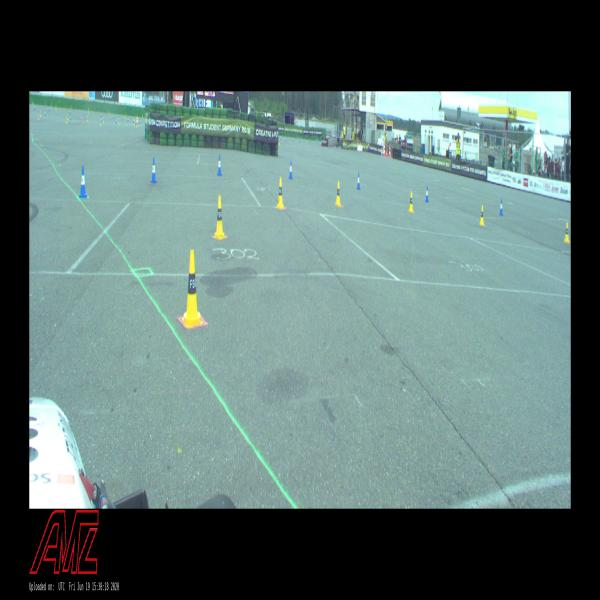blue_cone: (79, 166, 86, 198), (151, 158, 156, 182), (217, 154, 222, 176), (425, 186, 429, 202), (499, 200, 503, 215), (289, 160, 292, 178), (357, 174, 360, 189), (48, 106, 50, 112), (44, 111, 46, 115), (70, 116, 72, 120), (101, 113, 102, 118), (116, 118, 117, 123), (34, 105, 35, 110), (280, 136, 281, 140), (285, 138, 286, 142), (293, 137, 294, 141), (316, 139, 317, 143), (128, 117, 128, 122), (122, 115, 122, 120), (140, 120, 140, 124), (300, 139, 300, 143), (310, 139, 310, 142), (318, 139, 318, 143), (114, 114, 114, 118)
large_orange_cone: (389, 145, 391, 157), (381, 147, 383, 156), (386, 150, 388, 157), (384, 144, 385, 156), (138, 117, 138, 123), (137, 117, 137, 123)
orange_cone: (38, 117, 40, 122), (368, 144, 369, 148), (82, 116, 82, 121)
yellow_cone: (182, 251, 203, 326), (214, 196, 226, 238), (277, 177, 284, 208), (564, 222, 570, 242), (336, 182, 340, 206), (409, 192, 413, 212), (480, 206, 484, 225), (100, 120, 102, 126), (278, 139, 280, 145), (118, 119, 120, 124), (66, 118, 67, 124), (40, 111, 41, 116), (134, 120, 135, 125), (103, 118, 104, 123), (136, 123, 137, 127), (142, 114, 143, 118), (56, 106, 57, 110), (88, 117, 88, 121), (68, 116, 68, 120), (126, 115, 126, 119)
